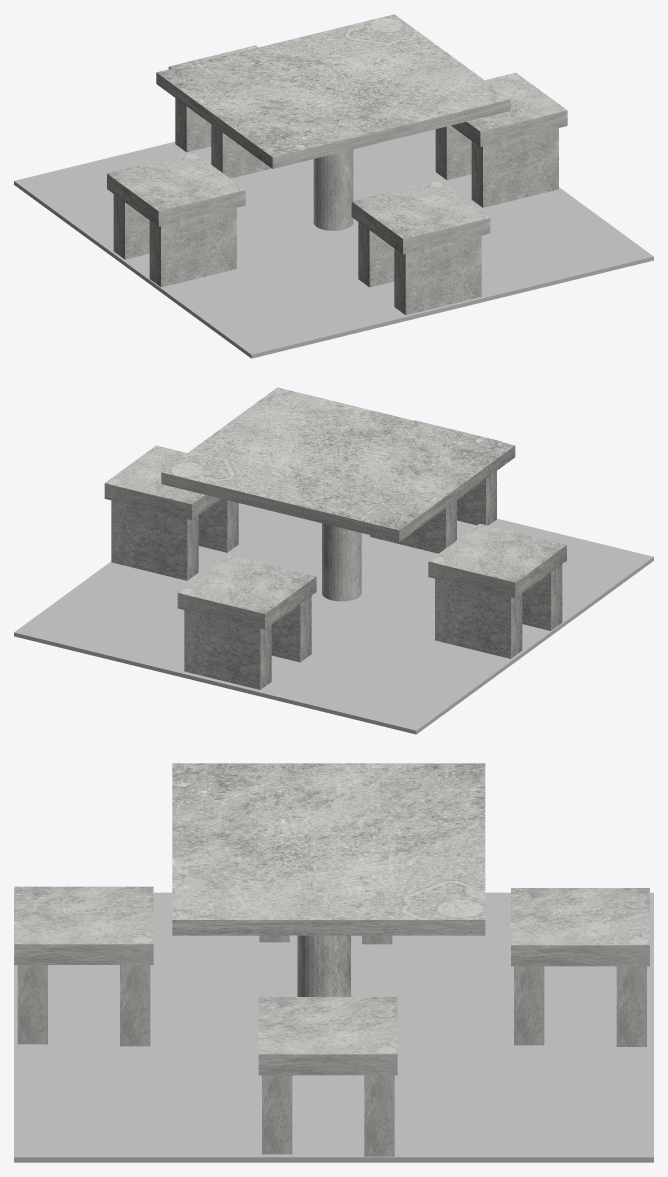
File: MesaGrande.obj
3 views of the same model, one above another, from view 1: azimuth 30°, elevation 25°; view 2: azimuth 150°, elevation 25°; view 3: azimuth 270°, elevation 25° (orthographic). The views are drawn at different scales.
Parts seen in each view (by area): view 1: Cube.025, Cube.024, Cube.012, Cube.015, Cube.013, Cube.022, Cube.016, Cube.021, Cylinder, Cube.017, Cube.014, Cube.023 (+2 smaller); view 2: Cube.025, Cube.024, Cube.018, Cube.015, Cube.023, Cube.017, Cube.020, Cube.021, Cylinder, Cube.016, Cube.019, Cube.022 (+2 smaller); view 3: Cube.025, Cube.024, Cube.012, Cube.021, Cube.018, Cylinder, Cube.023, Cube.014, Cube.020, Cube.022, Cube.019, Cube.013.
Boxes of the visible parts, x1=… form: Cube.025: x1=14, y1=129, x2=653, y2=358; Cube.024: x1=156, y1=14, x2=510, y2=168; Cube.012: x1=351, y1=180, x2=490, y2=254; Cube.015: x1=107, y1=152, x2=245, y2=226; Cube.013: x1=394, y1=235, x2=481, y2=315; Cube.022: x1=471, y1=128, x2=558, y2=207; Cube.016: x1=149, y1=207, x2=236, y2=287; Cube.021: x1=451, y1=72, x2=567, y2=146; Cylinder: x1=313, y1=149, x2=353, y2=230; Cube.017: x1=113, y1=194, x2=149, y2=259; Cube.014: x1=358, y1=222, x2=394, y2=287; Cube.023: x1=435, y1=125, x2=471, y2=179; Cube.025: x1=14, y1=503, x2=653, y2=734; Cube.024: x1=161, y1=387, x2=515, y2=541; Cube.018: x1=177, y1=555, x2=316, y2=629; Cube.015: x1=428, y1=524, x2=566, y2=598; Cube.023: x1=111, y1=500, x2=198, y2=580; Cube.017: x1=435, y1=578, x2=522, y2=658; Cube.020: x1=184, y1=610, x2=271, y2=689; Cube.021: x1=104, y1=445, x2=220, y2=519; Cylinder: x1=322, y1=523, x2=361, y2=601; Cube.016: x1=522, y1=564, x2=562, y2=630; Cube.019: x1=271, y1=596, x2=311, y2=662; Cube.022: x1=198, y1=498, x2=238, y2=552; Cube.025: x1=14, y1=892, x2=653, y2=1162; Cube.024: x1=172, y1=763, x2=485, y2=935; Cube.012: x1=14, y1=886, x2=153, y2=964; Cube.021: x1=258, y1=997, x2=397, y2=1075; Cube.018: x1=511, y1=888, x2=649, y2=966; Cylinder: x1=297, y1=935, x2=350, y2=996; Cube.023: x1=364, y1=1075, x2=394, y2=1156; Cube.014: x1=120, y1=965, x2=150, y2=1046; Cube.020: x1=616, y1=966, x2=646, y2=1046; Cube.022: x1=262, y1=1075, x2=292, y2=1154; Cube.019: x1=514, y1=966, x2=544, y2=1045; Cube.013: x1=17, y1=965, x2=47, y2=1044.
Bounding box in the file's own units: 7.62 × 2.48 × 7.65.
